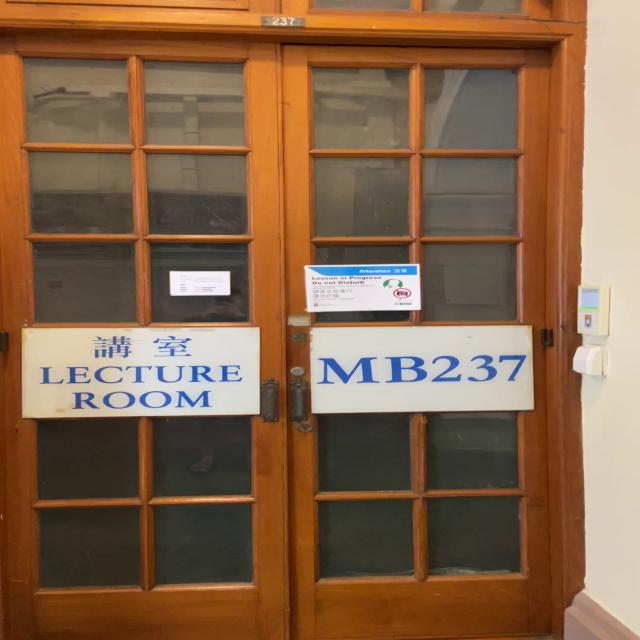room237: (252, 15, 312, 31)
room237Window: (319, 348, 528, 388)
